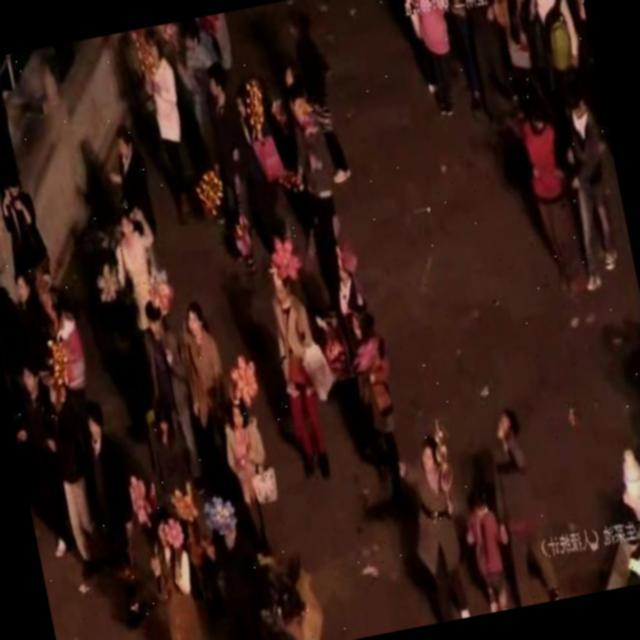person: (247, 258, 347, 489), (66, 390, 161, 630), (325, 299, 419, 529), (32, 352, 115, 594), (471, 400, 566, 610), (180, 64, 269, 276), (544, 86, 632, 296), (508, 92, 590, 306), (96, 194, 182, 393), (278, 87, 355, 309), (5, 359, 80, 574), (126, 26, 204, 231), (166, 15, 246, 208), (395, 438, 478, 624), (208, 387, 290, 568), (220, 85, 292, 266), (195, 496, 284, 640), (130, 500, 212, 640), (443, 0, 523, 137), (0, 243, 44, 450), (396, 0, 466, 124), (456, 489, 516, 615), (514, 0, 587, 103), (0, 169, 55, 300), (0, 55, 30, 212), (608, 500, 640, 587)
